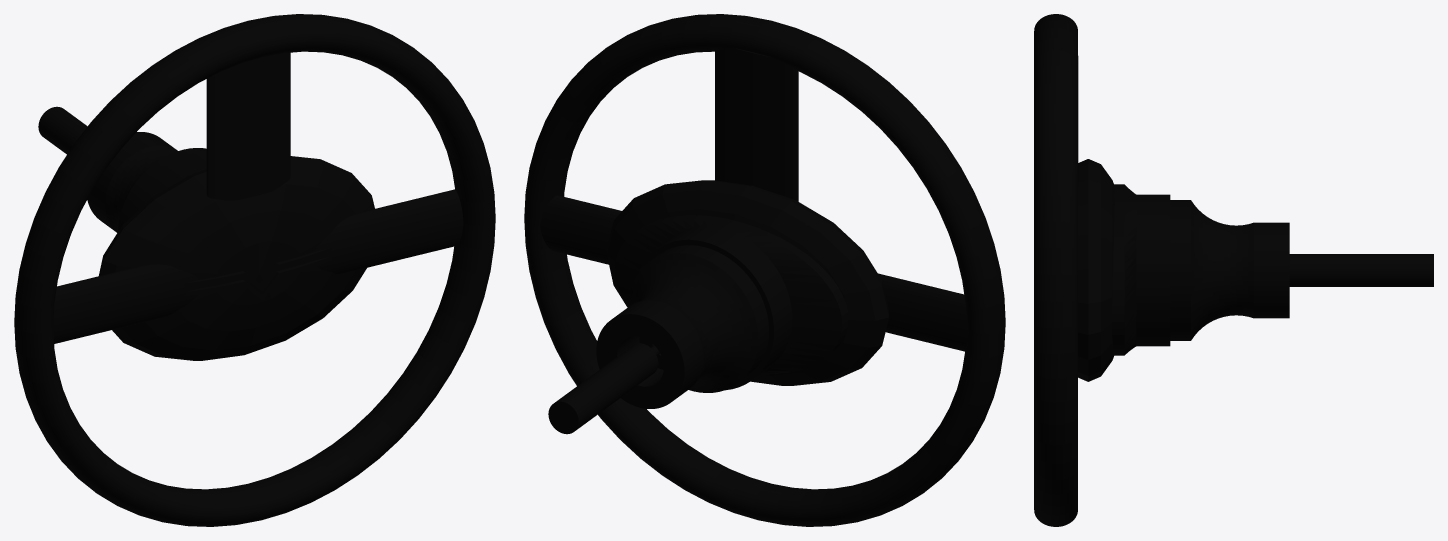
Rendered from steering_wheel.dae.
3 views of the same model, side by side, from view 1: azimuth 30°, elevation 25°; view 2: azimuth 150°, elevation 25°; view 3: azimuth 270°, elevation 25° (orthographic). The views are drawn at different scales.
Parts seen in each view (by area): view 1: node; view 2: node; view 3: node.
Part boxes in pixels (x1,y1,x2,y2): node: (14,14,495,526); node: (524,14,1005,526); node: (1034,14,1433,526).
Bounding box in the file's own units: 749 × 749 × 584.
Materials: 1 (1 with a texture image).
